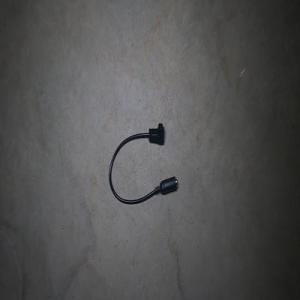Wire: (108, 123, 177, 204)
